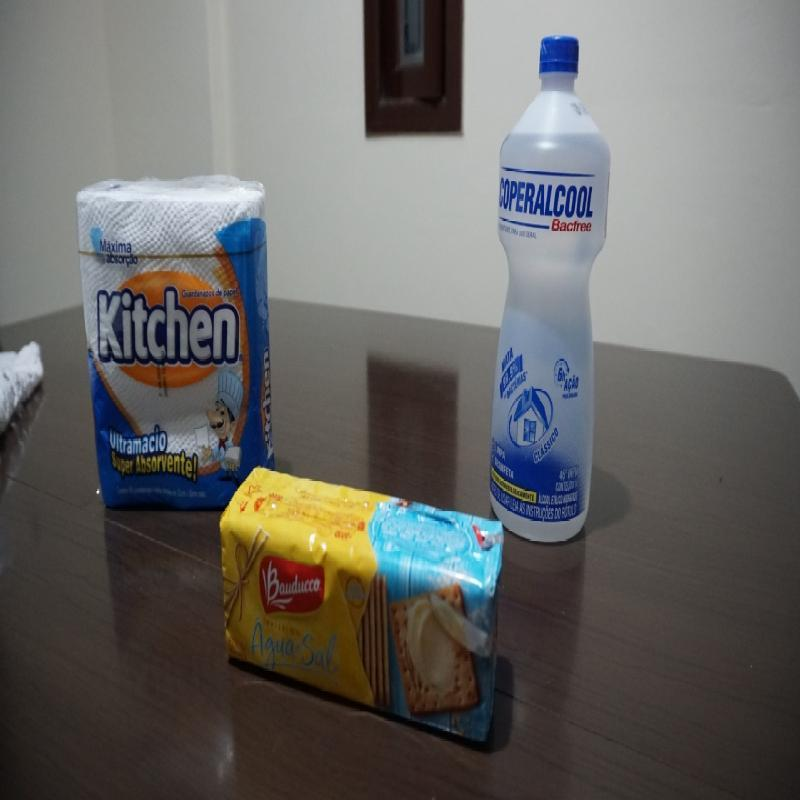Alcohol Bottle: (488, 34, 612, 548)
Cracker: (219, 466, 504, 747)
Napkin: (75, 178, 276, 512)
